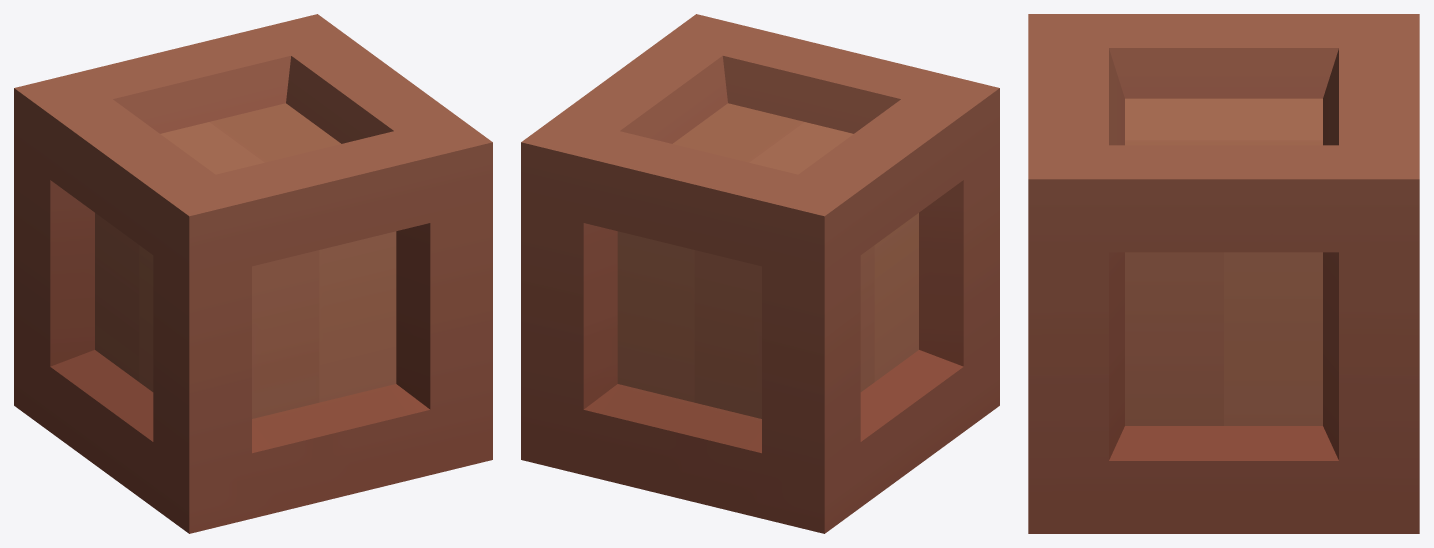
Rendered from crate_a_small.glb.
3 renders of one model, left to right at view 1: azimuth 30°, elevation 25°; view 2: azimuth 150°, elevation 25°; view 3: azimuth 270°, elevation 25°, orthographic. The views are drawn at different scales.
Visible parts, largest first — view 1: crate_A_small; view 2: crate_A_small; view 3: crate_A_small.
Boxes of the visible parts, x1,y1,x2,y2 form: crate_A_small: (14,14,492,533); crate_A_small: (521,14,999,533); crate_A_small: (1028,14,1419,533).
Size of the model in its own units: 0.14 by 0.14 by 0.14.
Materials: 1 (1 with a texture image).
